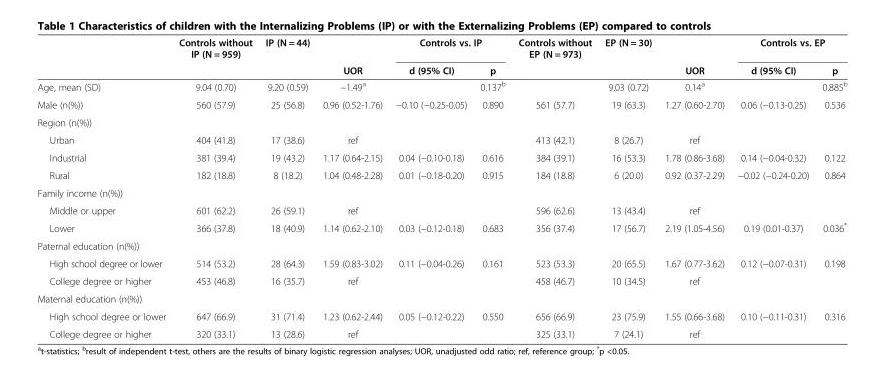table: (36, 36, 846, 339)
table column: (36, 36, 171, 339), (171, 36, 258, 339), (511, 36, 597, 339), (388, 36, 473, 339), (730, 36, 815, 339), (315, 36, 388, 339), (657, 36, 730, 339), (597, 36, 657, 339), (258, 36, 315, 339), (473, 36, 511, 339), (815, 36, 846, 339)
table column header: (36, 36, 846, 77)
table projected row header: (36, 183, 846, 201), (36, 236, 846, 254), (36, 289, 846, 307), (36, 113, 846, 130)
table row: (36, 36, 846, 61), (36, 77, 846, 95), (36, 95, 846, 113), (36, 130, 846, 148), (36, 165, 846, 183), (36, 183, 846, 201), (36, 218, 846, 236), (36, 236, 846, 254), (36, 271, 846, 289), (36, 289, 846, 307), (36, 113, 846, 130), (36, 148, 846, 165), (36, 201, 846, 218), (36, 254, 846, 271), (36, 307, 846, 324), (36, 61, 846, 77), (36, 324, 846, 339)
table spanning cell: (171, 36, 258, 77), (511, 36, 597, 77), (388, 36, 511, 61), (315, 36, 388, 77), (657, 36, 730, 77), (730, 36, 846, 61), (597, 36, 657, 77), (258, 36, 315, 77)
